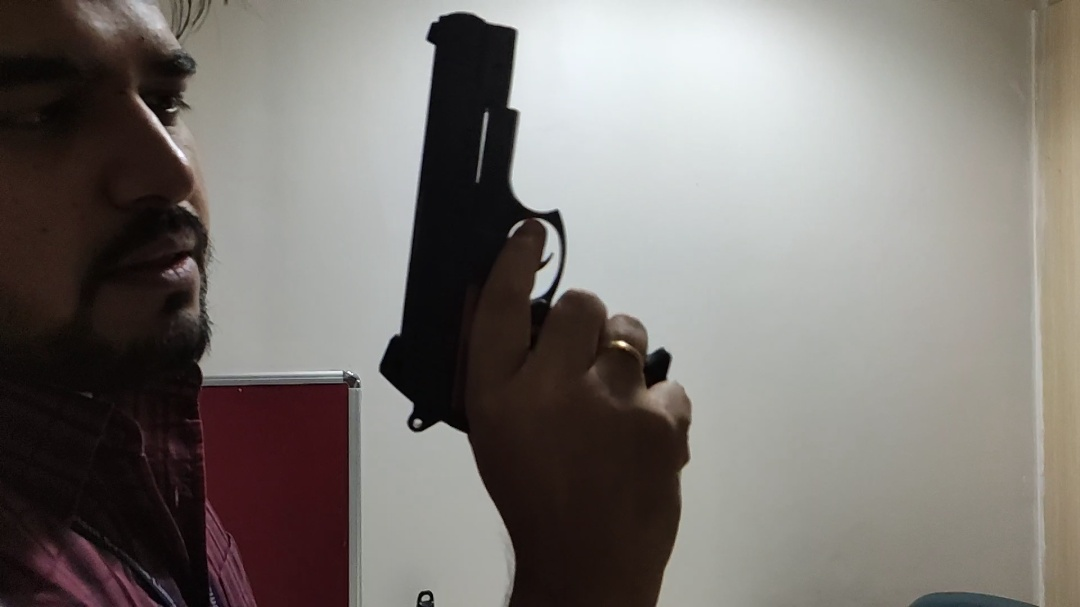gun: (376, 7, 680, 438)
